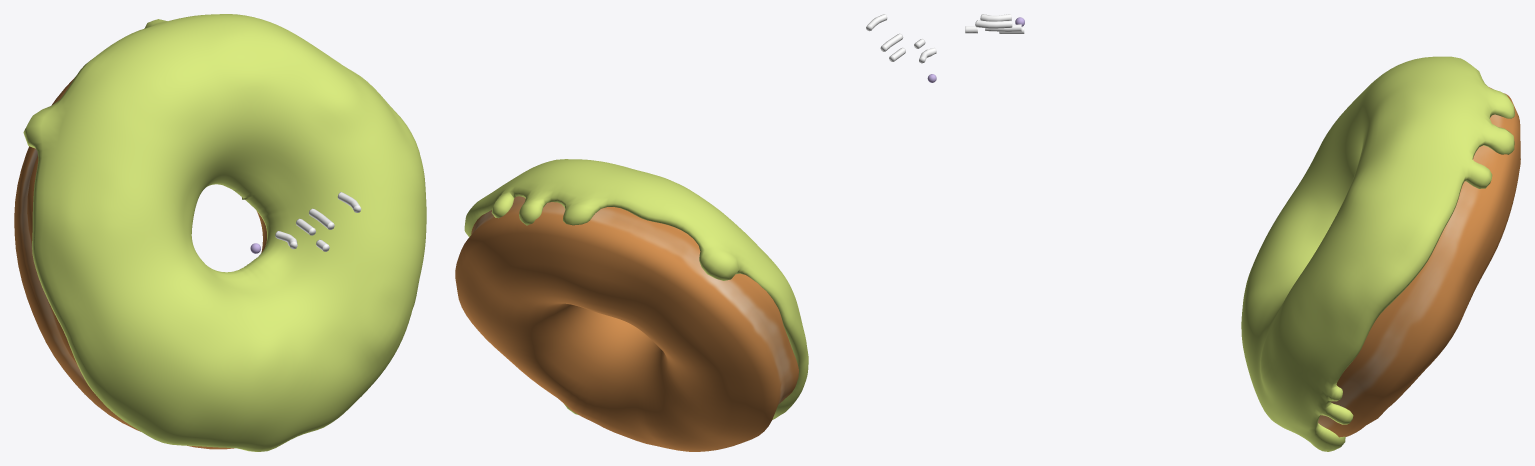
Rendered from donutv4 copy.gltf.
3 renders of one model, left to right at view 1: azimuth 30°, elevation 25°; view 2: azimuth 150°, elevation 25°; view 3: azimuth 270°, elevation 25°, orthographic. The views are drawn at different scales.
Visible parts, largest first — view 1: Icing, Donut; view 2: Donut, Icing; view 3: Icing, Donut.
Part boxes in pixels (<box>): Icing: <box>23,14,426,451</box>; Donut: <box>14,77,266,449</box>; Donut: <box>455,196,798,451</box>; Icing: <box>464,159,808,419</box>; Icing: <box>1241,56,1514,451</box>; Donut: <box>1318,87,1520,437</box>.
Size of the model in its own units: 0.108 by 0.1062 by 0.1463.
Materials: 4 (1 with a texture image).
